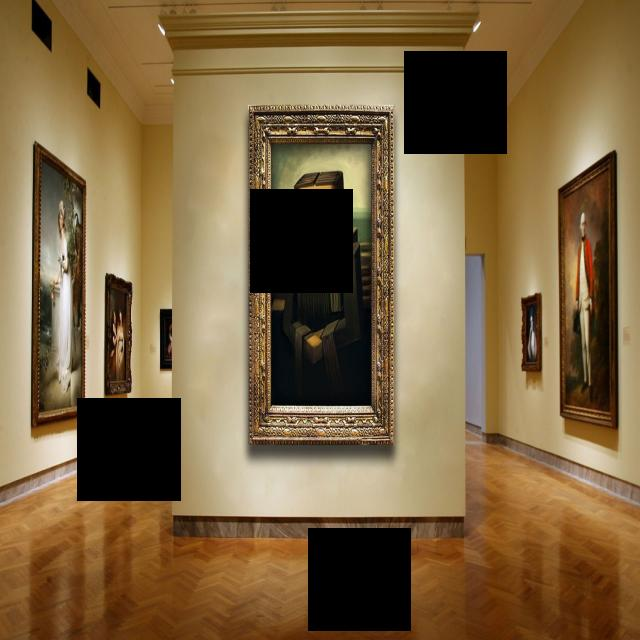Tablo: (269, 143, 372, 407), (563, 167, 610, 414), (39, 157, 84, 414), (109, 286, 127, 383), (526, 302, 537, 364)
